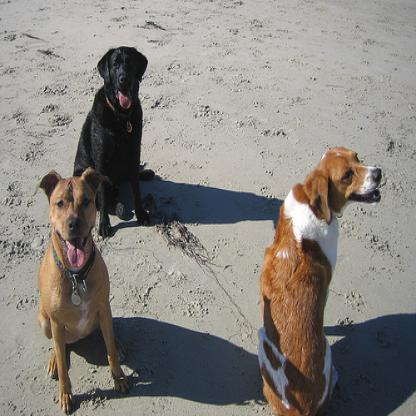dog: (256, 143, 381, 415), (36, 166, 136, 415), (71, 45, 154, 240)
